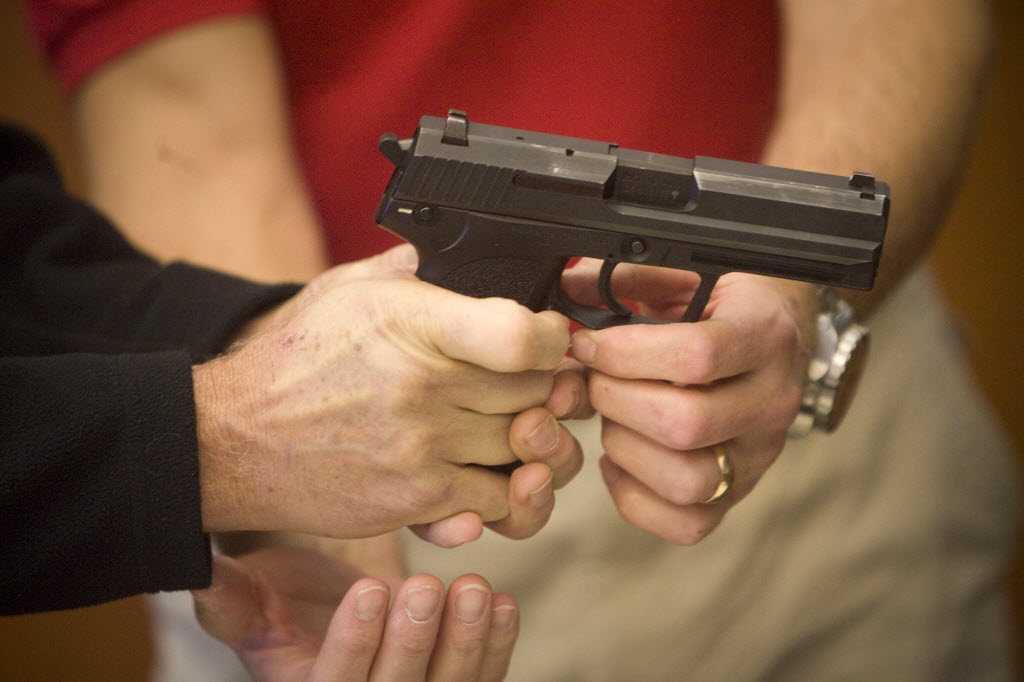Gun: (447, 108, 875, 303)
